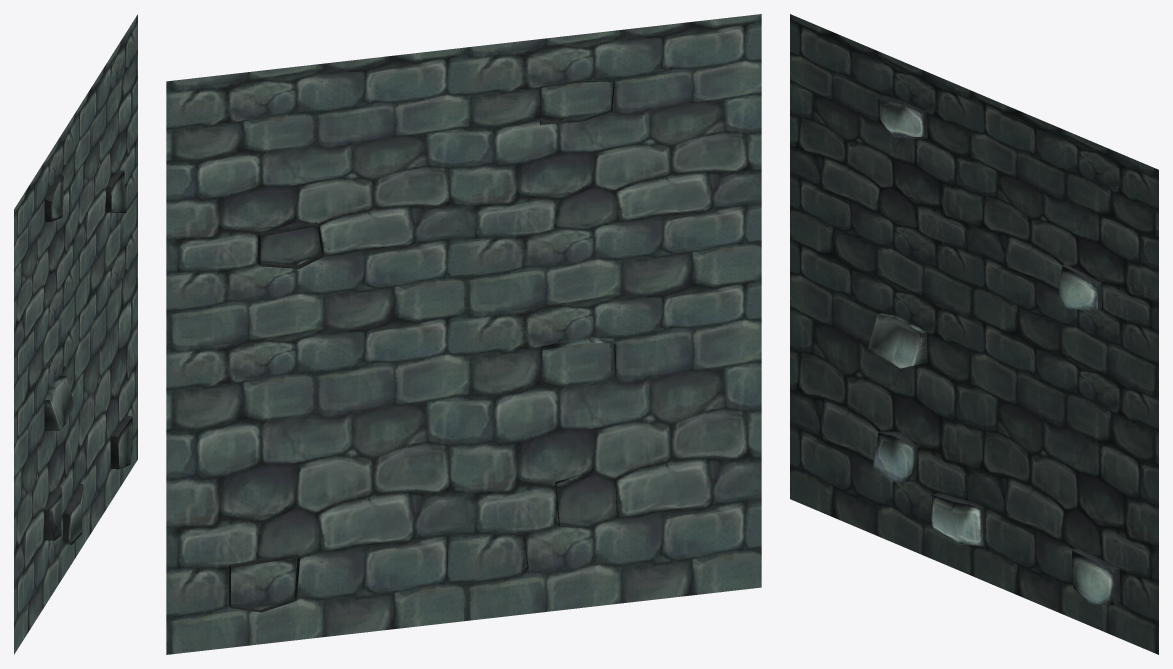
Rendered from crypt_wall_diagnol_02.fbx.
3 views of the same model, side by side, from view 1: azimuth 30°, elevation 25°; view 2: azimuth 150°, elevation 25°; view 3: azimuth 270°, elevation 25° (orthographic). The views are drawn at different scales.
Parts seen in each view (by area): view 1: crypt_wall_diagnol_02-0; view 2: crypt_wall_diagnol_02-0; view 3: crypt_wall_diagnol_02-0.
Part boxes in pixels (x1,y1,x2,y2): crypt_wall_diagnol_02-0: (14,14,137,654); crypt_wall_diagnol_02-0: (166,14,761,654); crypt_wall_diagnol_02-0: (790,14,1158,654).
Bounding box in the file's own units: 3.79 × 5.5 × 3.79.
